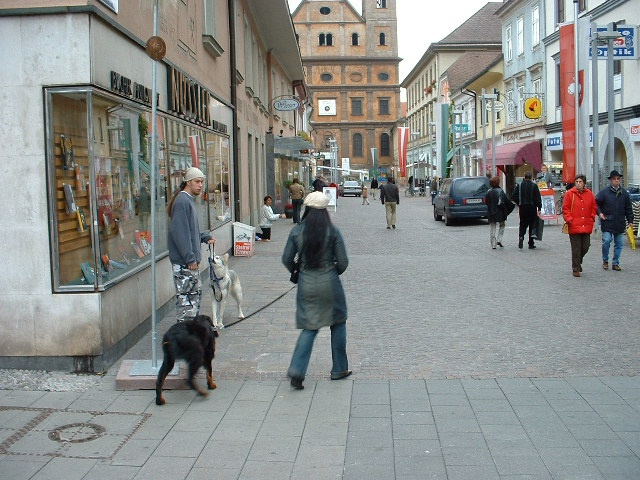person: (280, 188, 352, 388), (168, 161, 214, 337), (594, 168, 634, 270), (564, 171, 597, 278)
